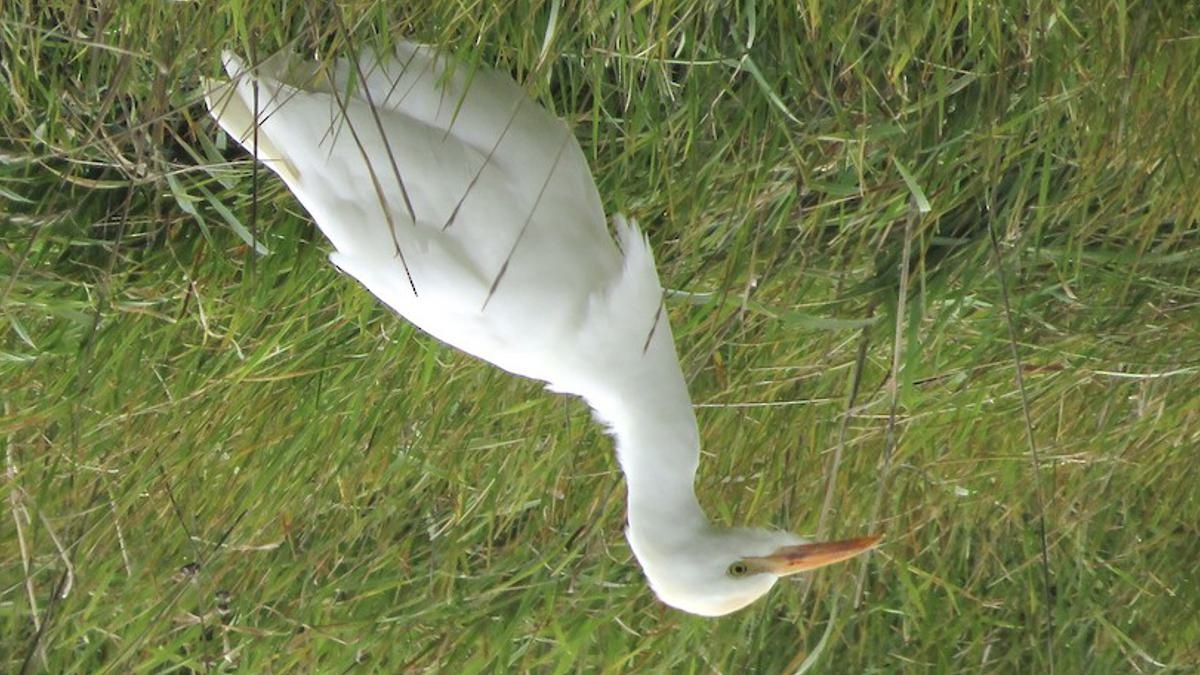egret: (182, 22, 890, 606)
